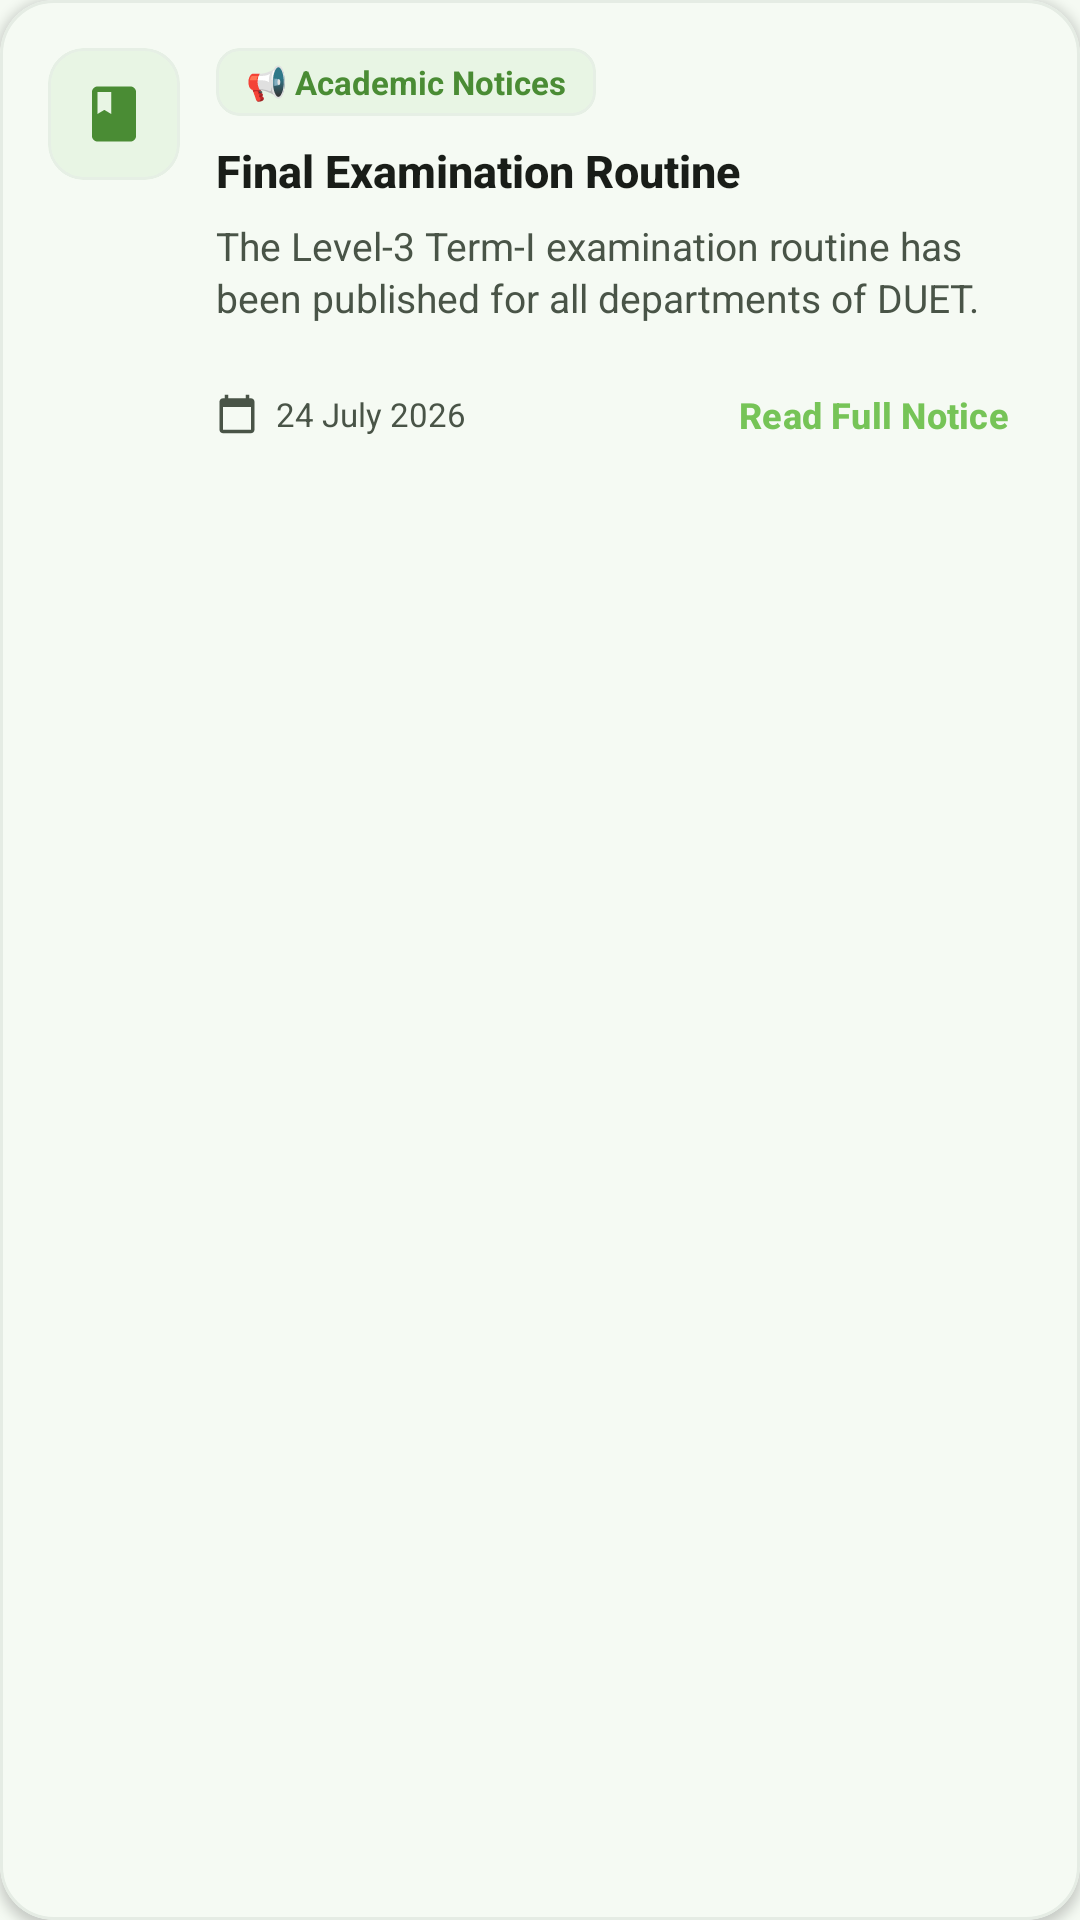

Where icons sit on this 1080w x 1920h app screen, as box(x1, y1, x2, y2):
book: box(92, 86, 136, 142)
calendar today: box(219, 394, 255, 434)
